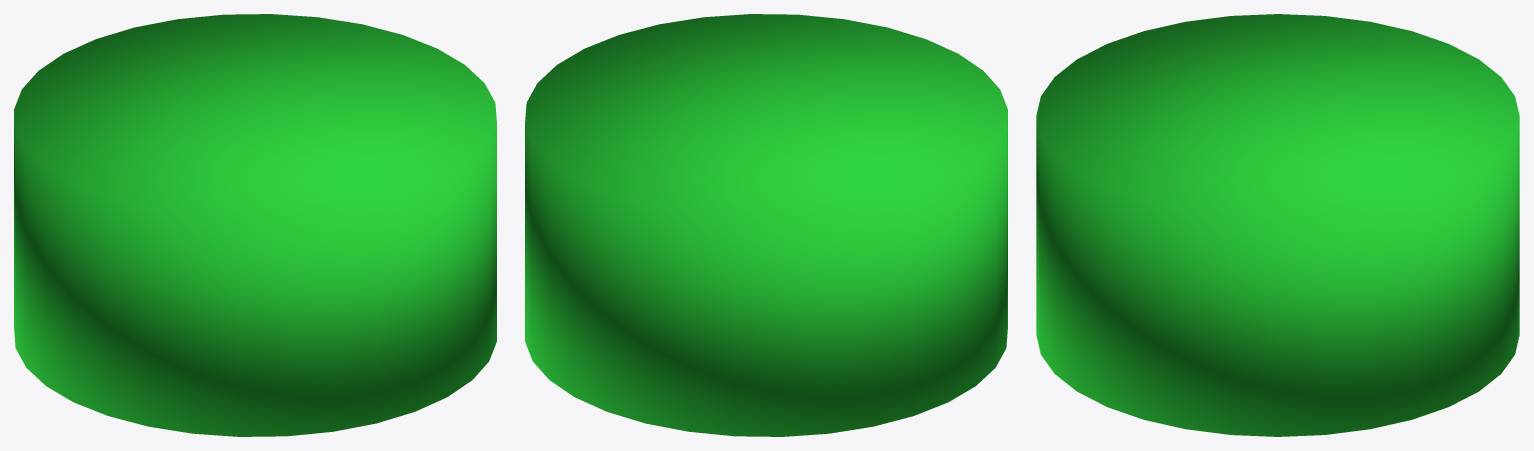
Rendered from círculo.fbx.
3 views of the same model, side by side, from view 1: azimuth 30°, elevation 25°; view 2: azimuth 150°, elevation 25°; view 3: azimuth 270°, elevation 25° (orthographic).
Parts seen in each view (by area): view 1: Circle; view 2: Circle; view 3: Circle.
Part boxes in pixels (bbox=[...]): Circle: bbox=[14, 14, 496, 436]; Circle: bbox=[525, 14, 1007, 436]; Circle: bbox=[1036, 14, 1519, 436].
Size of the model in its own units: 4.54 by 2.27 by 4.54.
